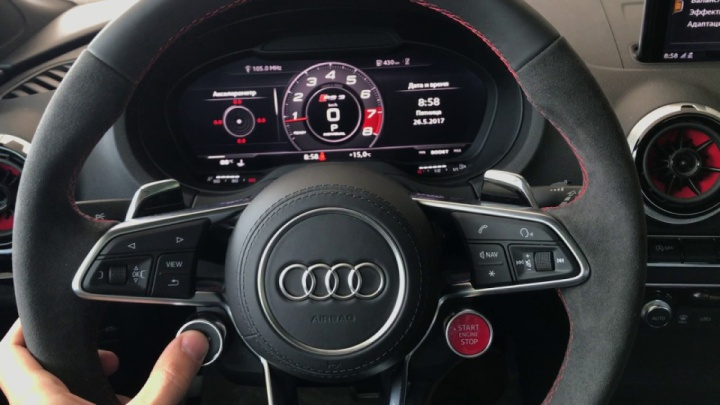audi: (273, 261, 391, 307)
